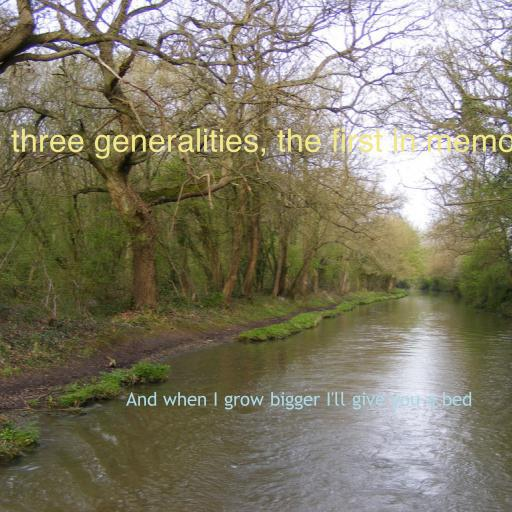SignPainter: (0, 128, 512, 159)
Trebuchet MS: (126, 391, 472, 410)
